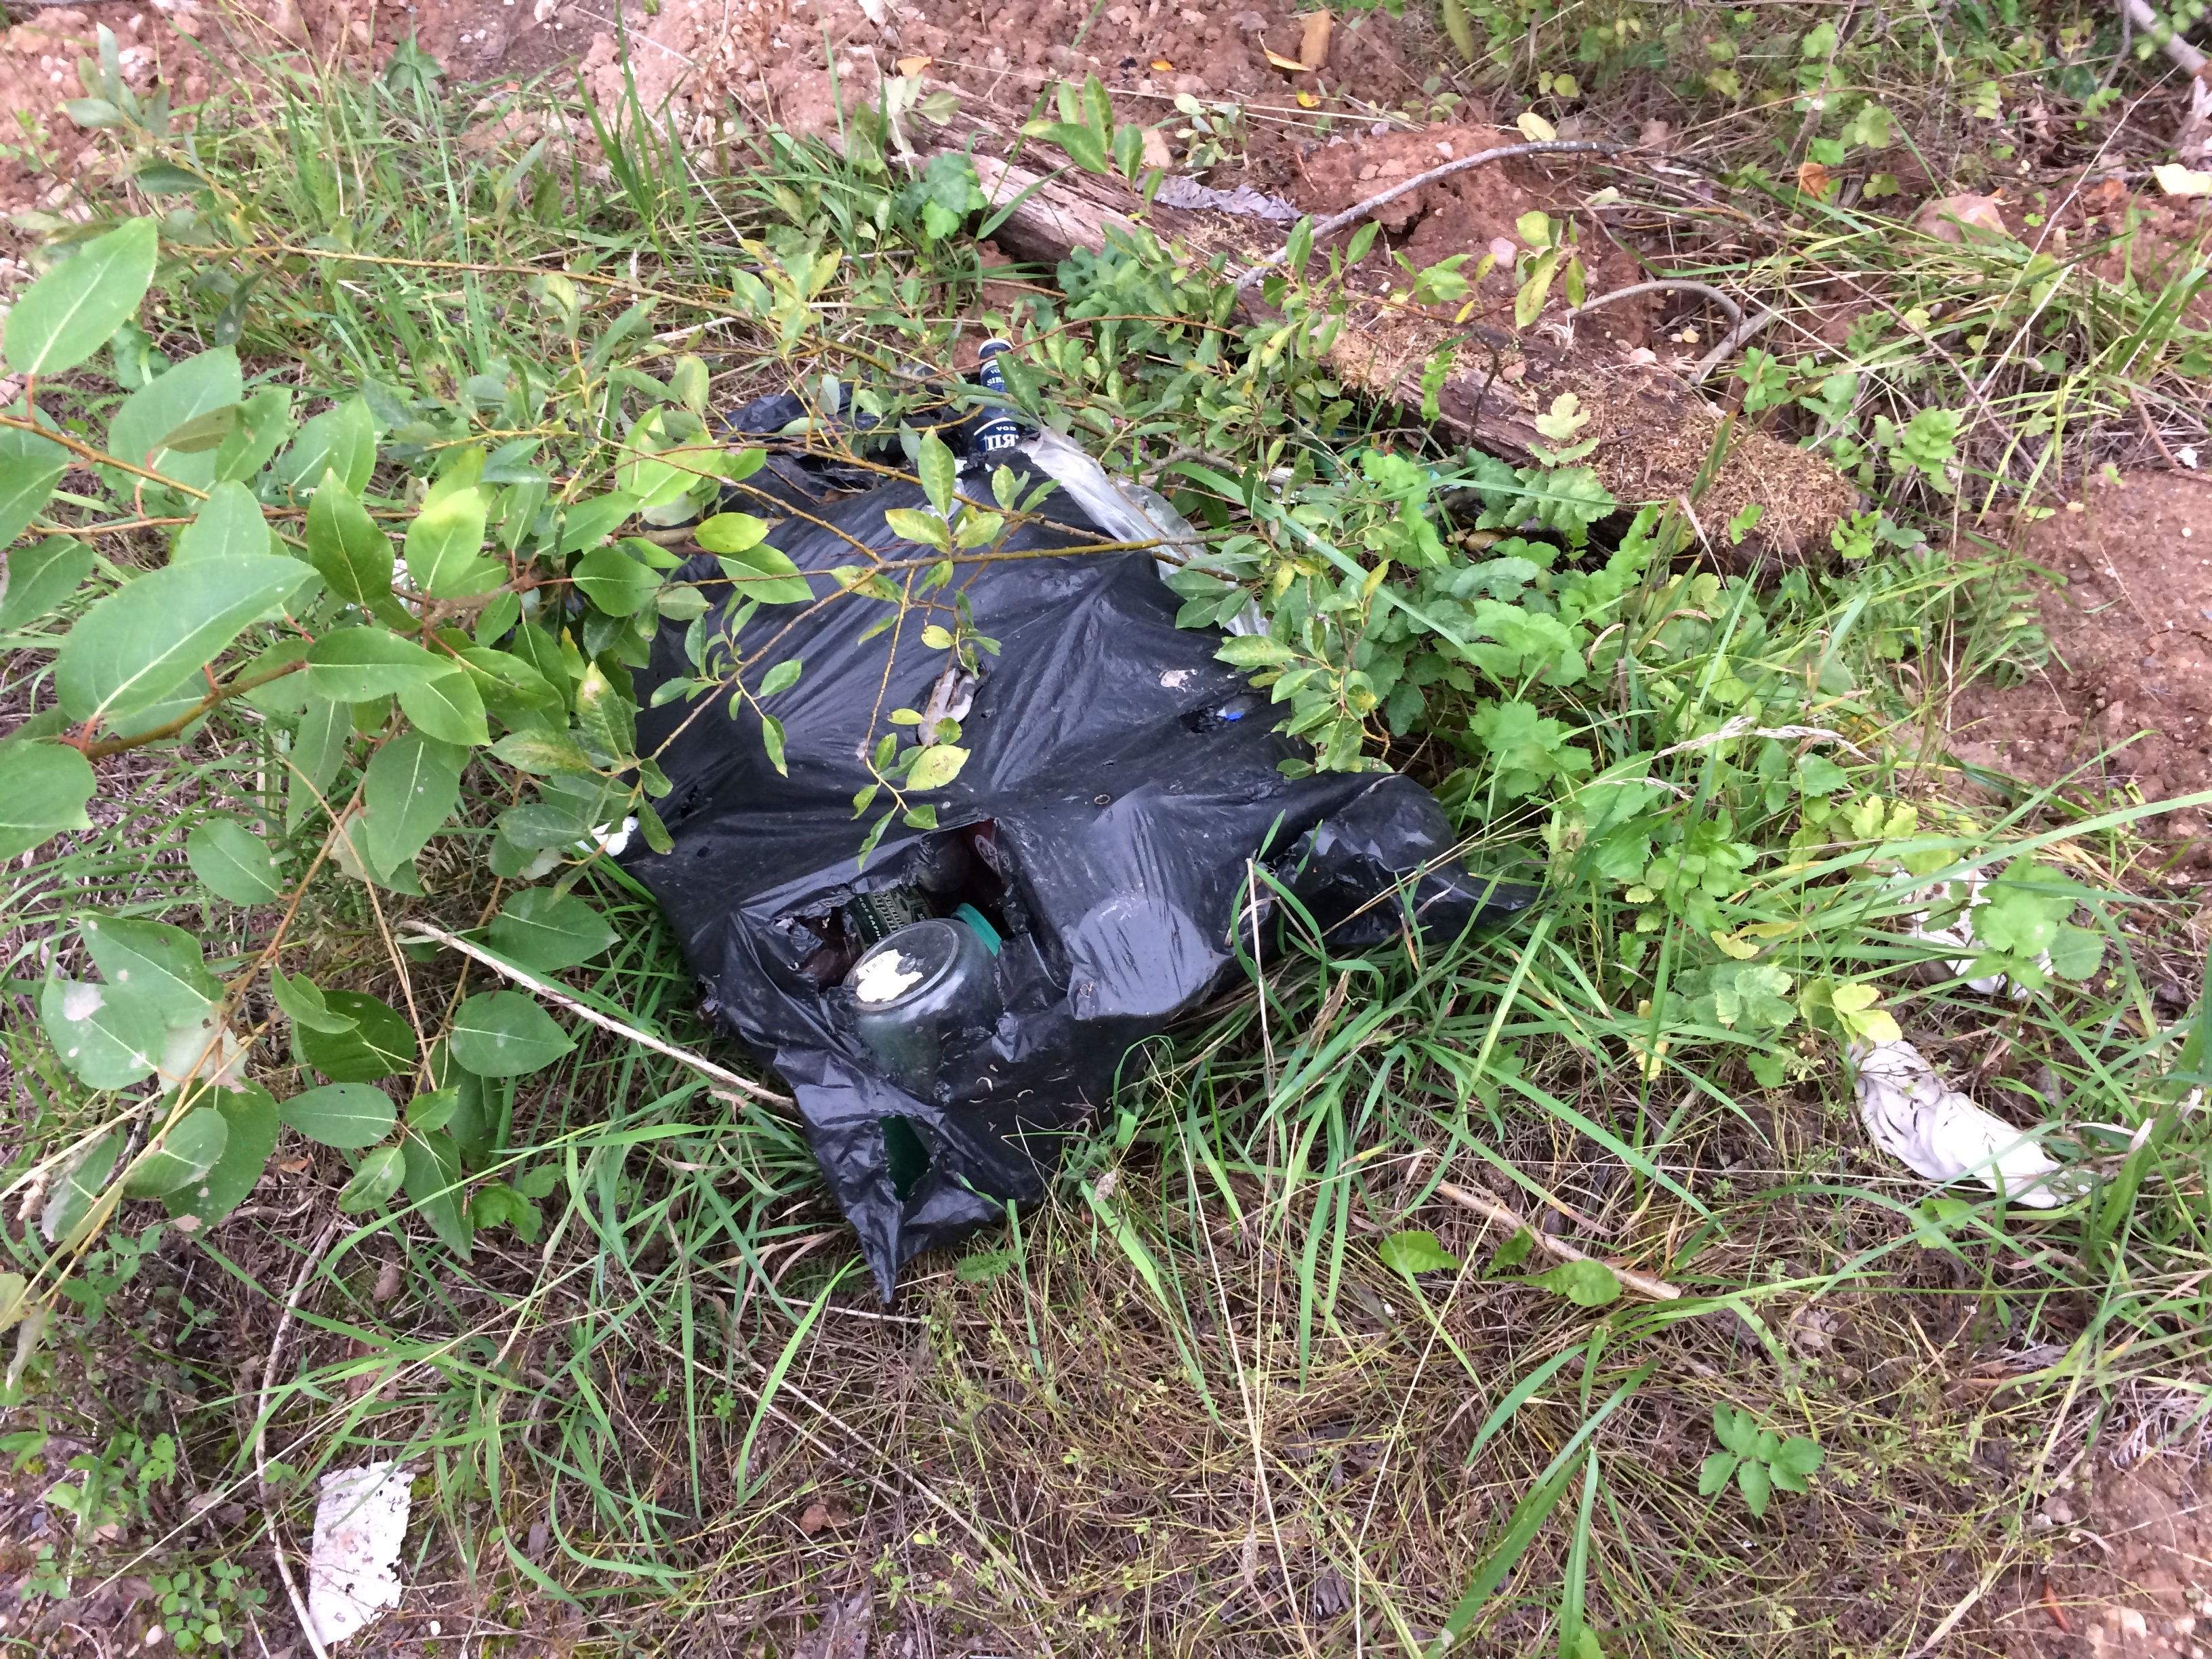trash: (385, 282, 1615, 1279), (1829, 803, 2123, 1277), (244, 1450, 479, 1643)
